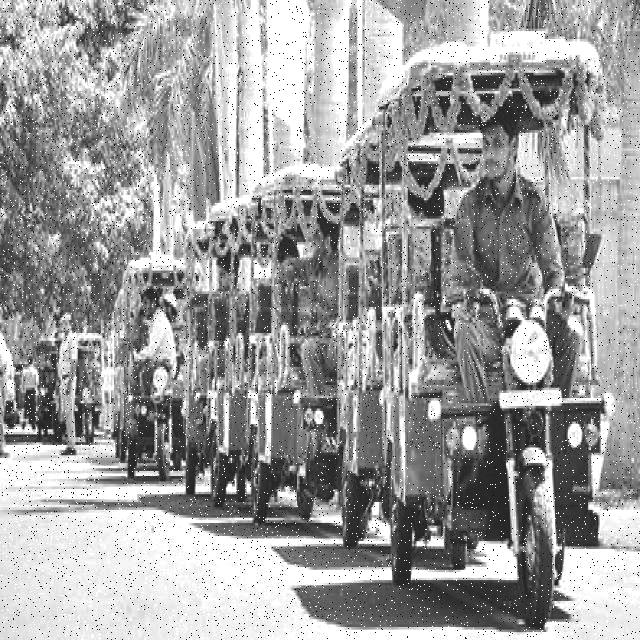Toto: (377, 34, 610, 626), (245, 170, 345, 518), (122, 257, 186, 497)
